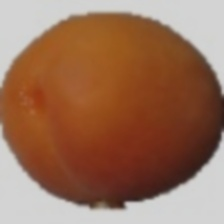apricot: (57, 38, 192, 213)
